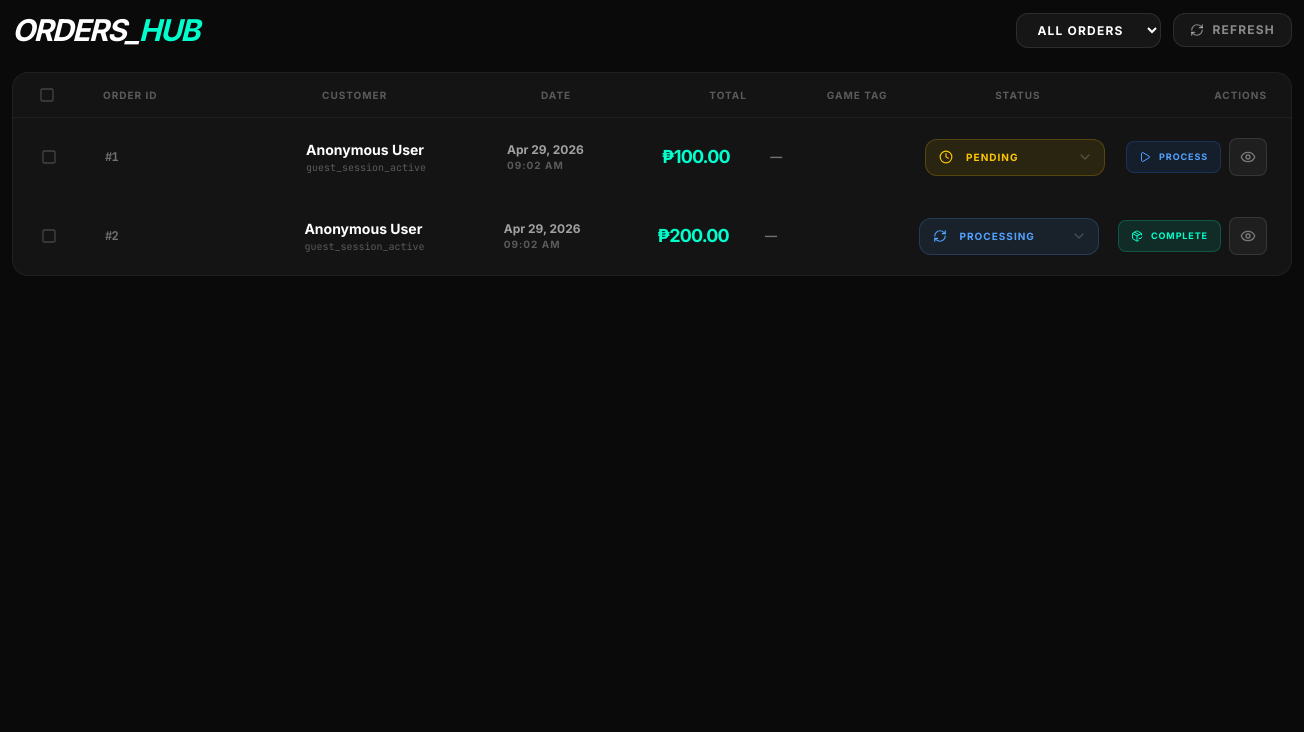
AdminOrders Component › renders orders and handles single selection
Expected: the text "#1" is shown, [105,149,118,165]
Click the button with test id "select-order-1": (49, 157) [39,147,59,167]
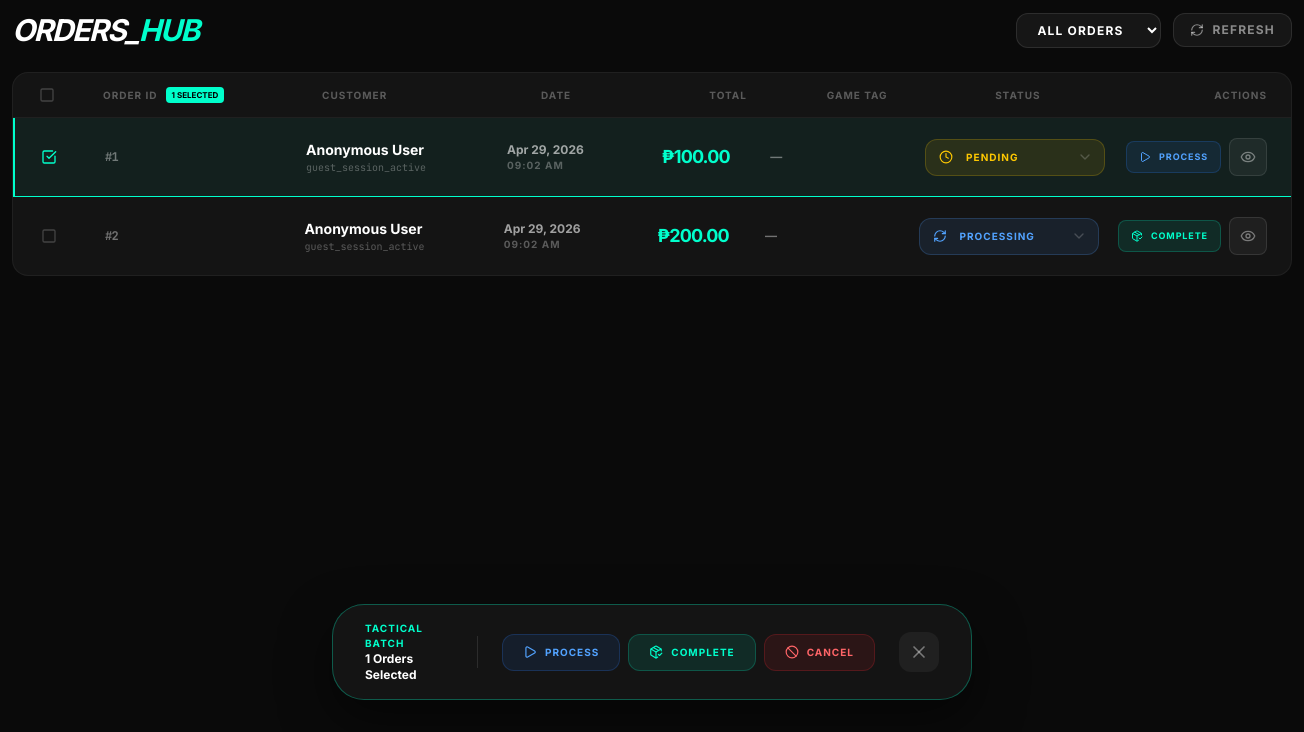
Now the text "1 Orders Selected" is shown, box [365,651,416,682]
